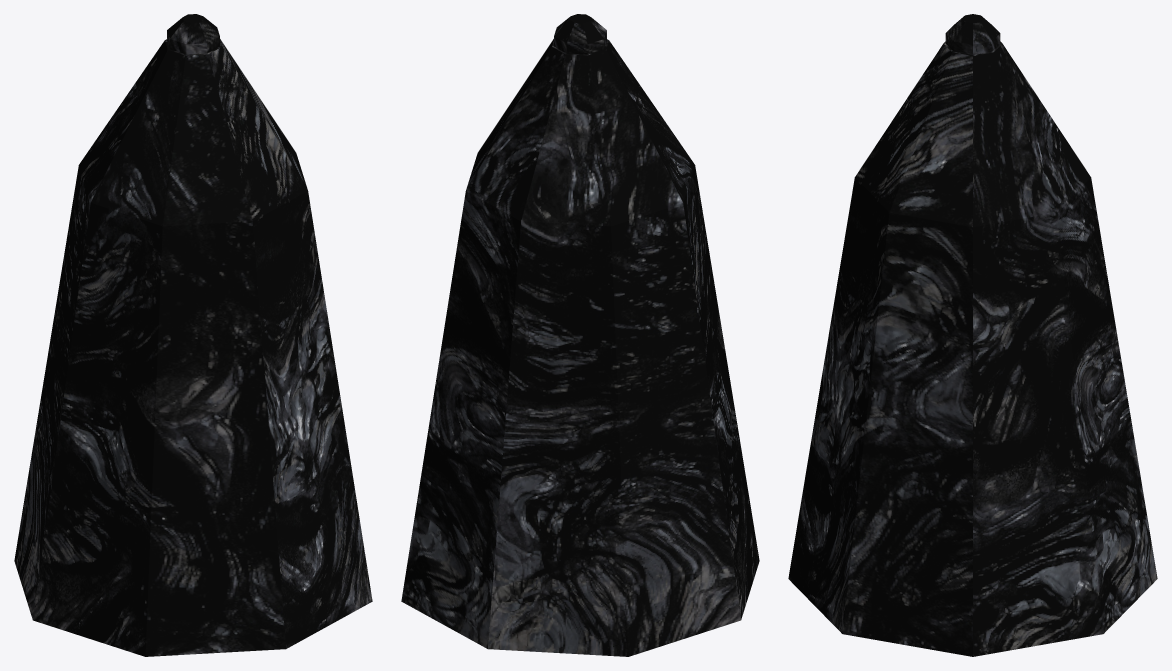
Rendered from obsidian_pawn.obj.
The picture shows the model from 3 angles, left to right: view 1: azimuth 30°, elevation 25°; view 2: azimuth 150°, elevation 25°; view 3: azimuth 270°, elevation 25°; orthographic projection.
Parts seen in each view (by area): view 1: Plain_Pawn; view 2: Plain_Pawn; view 3: Plain_Pawn.
Part boxes in pixels (bbox=[...]): Plain_Pawn: bbox=[14, 14, 372, 656]; Plain_Pawn: bbox=[401, 14, 759, 656]; Plain_Pawn: bbox=[788, 14, 1157, 656].
Size of the model in its own units: 25 by 41.85 by 25.
